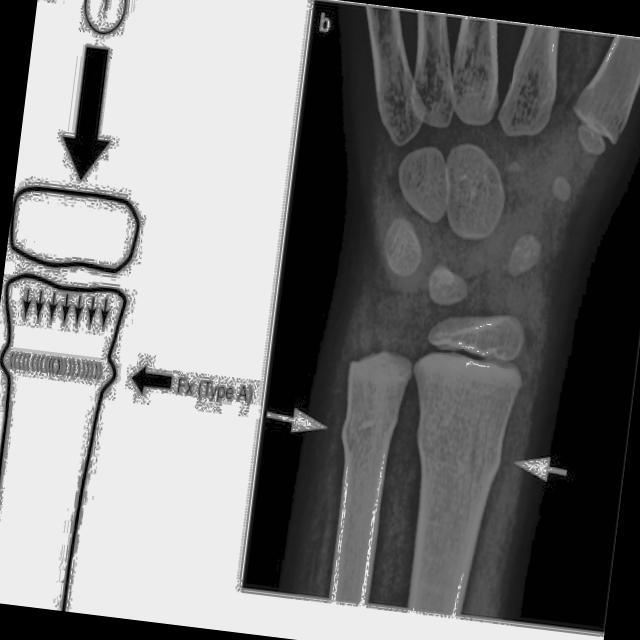GreenStick Fracture: (343, 411, 388, 445)
